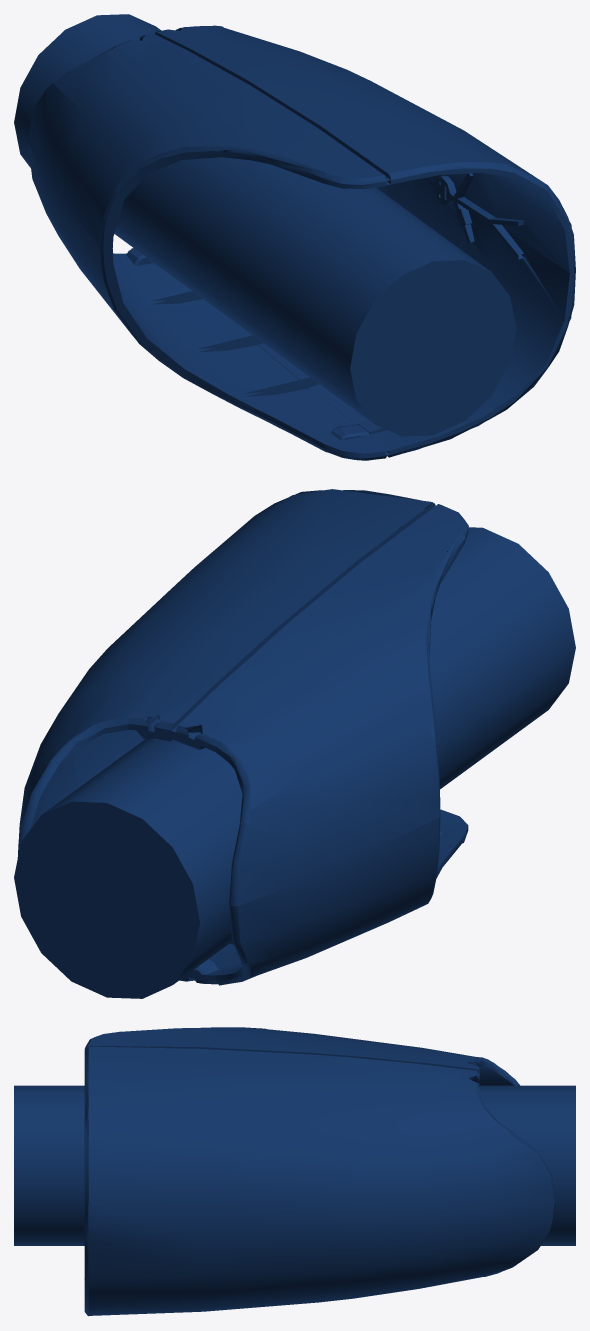
Rendered from icub_r_forearm.dae.
3 views of the same model, one above another, from view 1: azimuth 30°, elevation 25°; view 2: azimuth 150°, elevation 25°; view 3: azimuth 270°, elevation 25° (orthographic). The views are drawn at different scales.
Visible parts, largest first — view 1: r_forearm_mesh, r_forearm_cyl_mesh; view 2: r_forearm_mesh, r_forearm_cyl_mesh; view 3: r_forearm_mesh, r_forearm_cyl_mesh.
Part boxes in pixels (bbox=[...]): r_forearm_mesh: bbox=[28, 25, 575, 460]; r_forearm_cyl_mesh: bbox=[14, 14, 516, 436]; r_forearm_mesh: bbox=[17, 489, 468, 985]; r_forearm_cyl_mesh: bbox=[14, 527, 575, 998]; r_forearm_mesh: bbox=[84, 1027, 555, 1316]; r_forearm_cyl_mesh: bbox=[14, 1085, 575, 1245].
Bounding box in the file's own units: 0.0804 × 0.0654 × 0.14.
